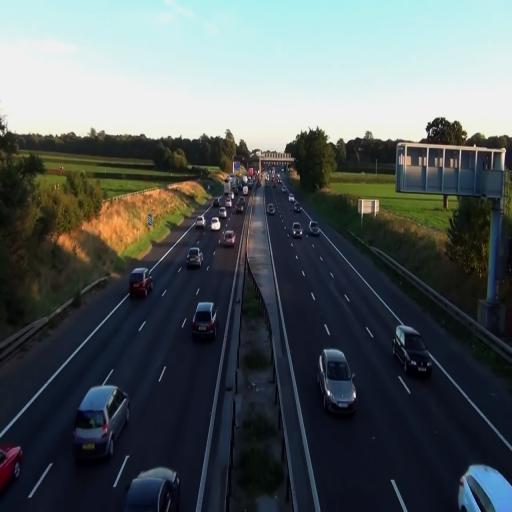vehicle: (72, 384, 130, 462), (317, 348, 358, 416), (458, 463, 512, 512), (124, 466, 181, 511), (393, 324, 432, 378), (0, 441, 23, 497), (192, 301, 218, 343), (129, 267, 153, 300), (186, 246, 203, 270), (218, 227, 236, 249), (210, 215, 222, 233), (292, 222, 302, 238), (309, 222, 319, 236)
